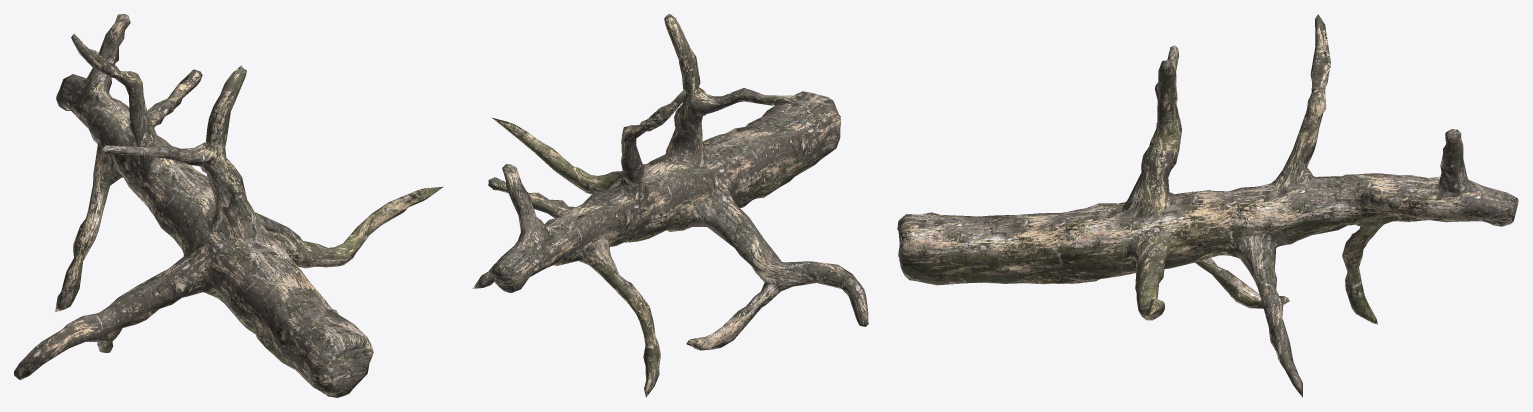
Rendered from SM_TreeFallen_02.fbx.
3 renders of one model, left to right at view 1: azimuth 30°, elevation 25°; view 2: azimuth 150°, elevation 25°; view 3: azimuth 270°, elevation 25°, orthographic. The views are drawn at different scales.
Visible parts, largest first — view 1: SM_TreeFallen_02; view 2: SM_TreeFallen_02; view 3: SM_TreeFallen_02.
Boxes of the visible parts, <box> form: SM_TreeFallen_02: <box>14,14,443,397</box>; SM_TreeFallen_02: <box>472,14,868,397</box>; SM_TreeFallen_02: <box>897,14,1518,397</box>.
Size of the model in its own units: 252 by 328 by 178.
1 material, 1 textured.
